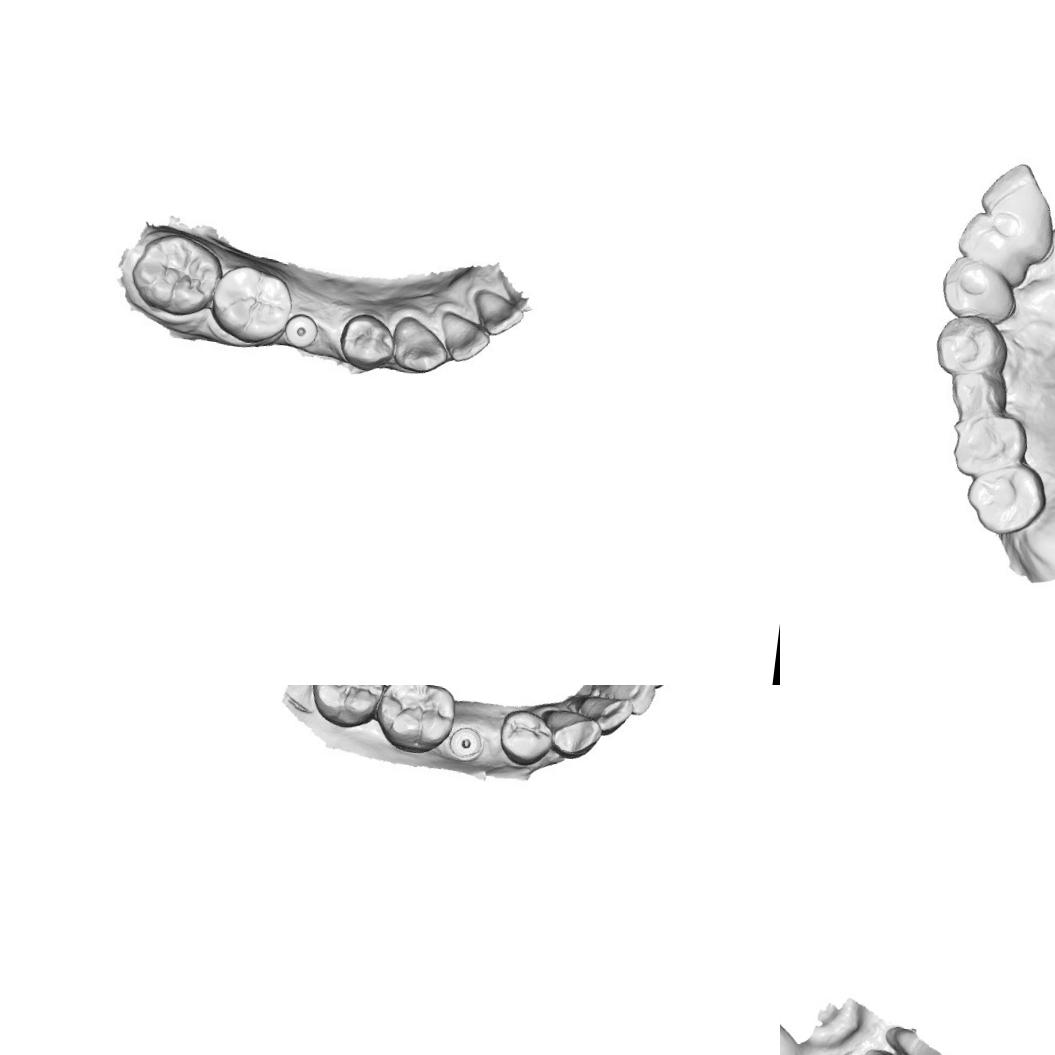canine: (938, 252, 1024, 324), (387, 313, 456, 380), (535, 703, 603, 761)
implant: (446, 724, 486, 764), (283, 314, 318, 354)
incisor: (975, 159, 1054, 248), (954, 209, 1034, 285), (464, 286, 528, 339), (437, 309, 491, 365), (574, 692, 630, 740), (606, 685, 656, 721)
molar: (128, 230, 226, 320), (211, 264, 298, 348), (963, 462, 1052, 540), (373, 685, 458, 756), (948, 408, 1029, 482), (308, 685, 387, 731)
premolar: (931, 314, 1016, 378), (333, 306, 399, 376), (947, 363, 1016, 425), (496, 707, 556, 771)
